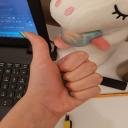ThumbsUp: (12, 30, 102, 116)
